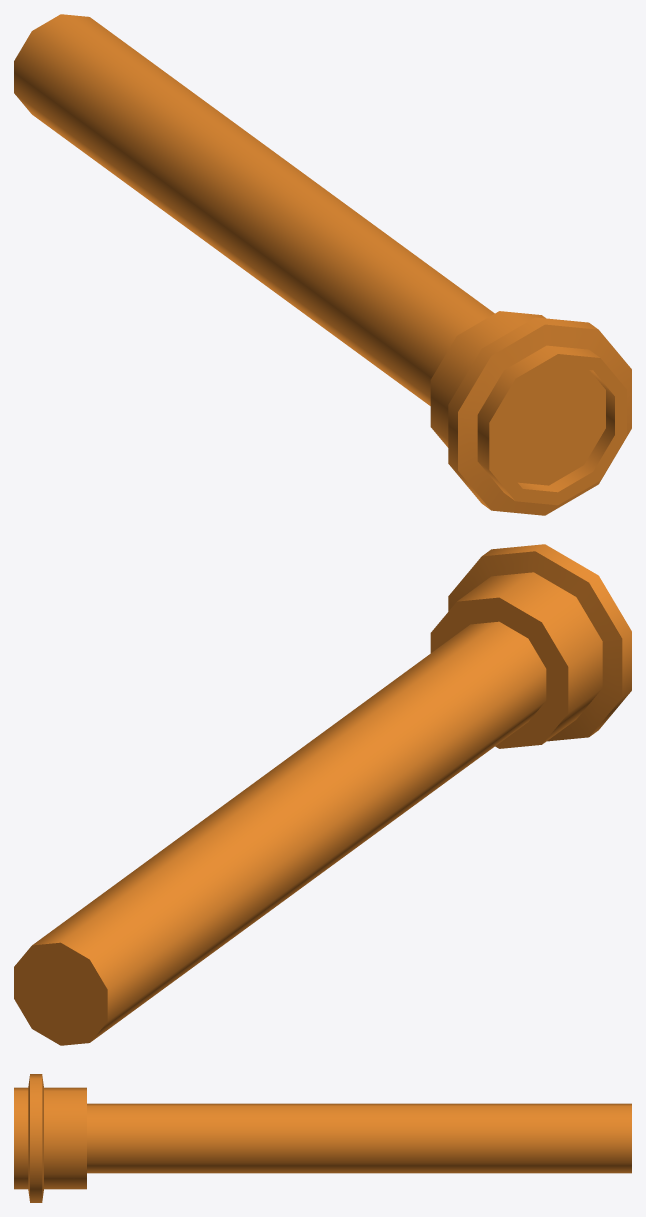
Rendered from LockPin.fbx.
The picture shows the model from 3 angles, top to bottom: view 1: azimuth 30°, elevation 25°; view 2: azimuth 150°, elevation 25°; view 3: azimuth 270°, elevation 25°; orthographic projection. The views are drawn at different scales.
Parts seen in each view (by area): view 1: LockPin; view 2: LockPin; view 3: LockPin.
Boxes of the visible parts, x1=… form: LockPin: x1=14, y1=14, x2=631, y2=515; LockPin: x1=14, y1=544, x2=631, y2=1045; LockPin: x1=14, y1=1074, x2=631, y2=1202.
Size of the model in its own units: 29.52 by 31.04 by 146.
